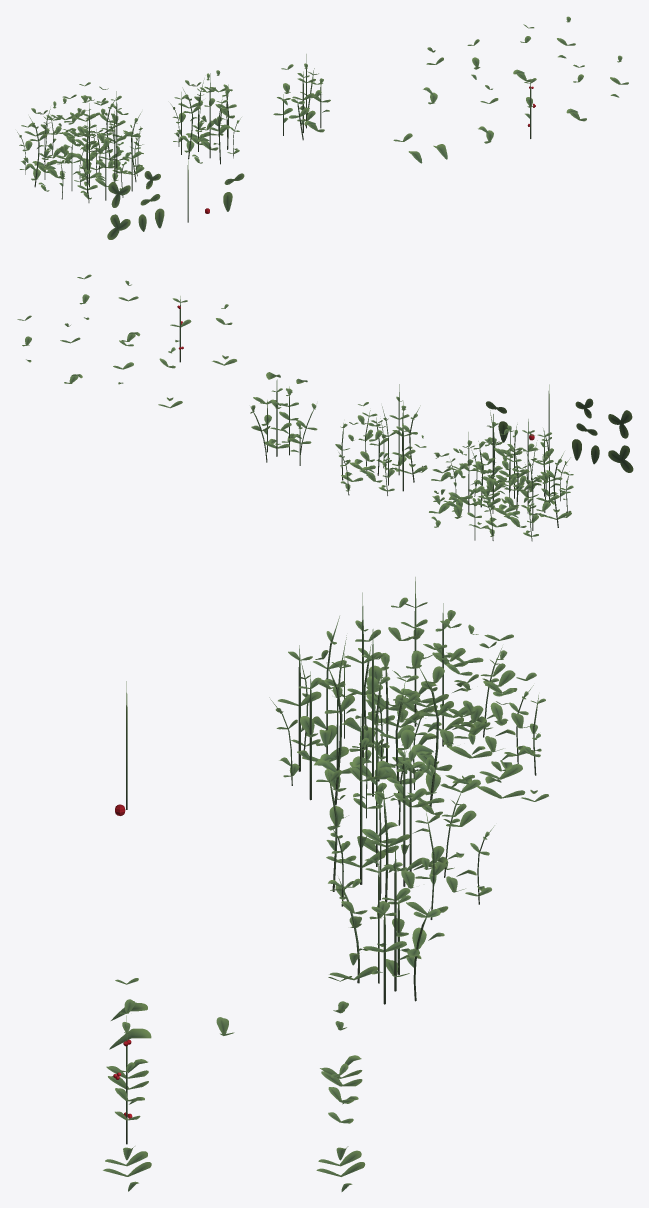
File: medium_tree_04.glb
3 renders of one model, top to bottom at view 1: azimuth 30°, elevation 25°; view 2: azimuth 150°, elevation 25°; view 3: azimuth 270°, elevation 25°, orthographic. The views are drawn at different scales.
Parts seen in each view (by area): view 1: medium_tree_04; view 2: medium_tree_04; view 3: medium_tree_04.
Boxes of the visible parts, x1,y1,x2,y2 form: medium_tree_04: (17, 16, 628, 239); medium_tree_04: (17, 274, 633, 541); medium_tree_04: (103, 577, 548, 1191).
Size of the model in its own units: 18.24 by 3 by 6.83.
Materials: 1 (1 with a texture image).
